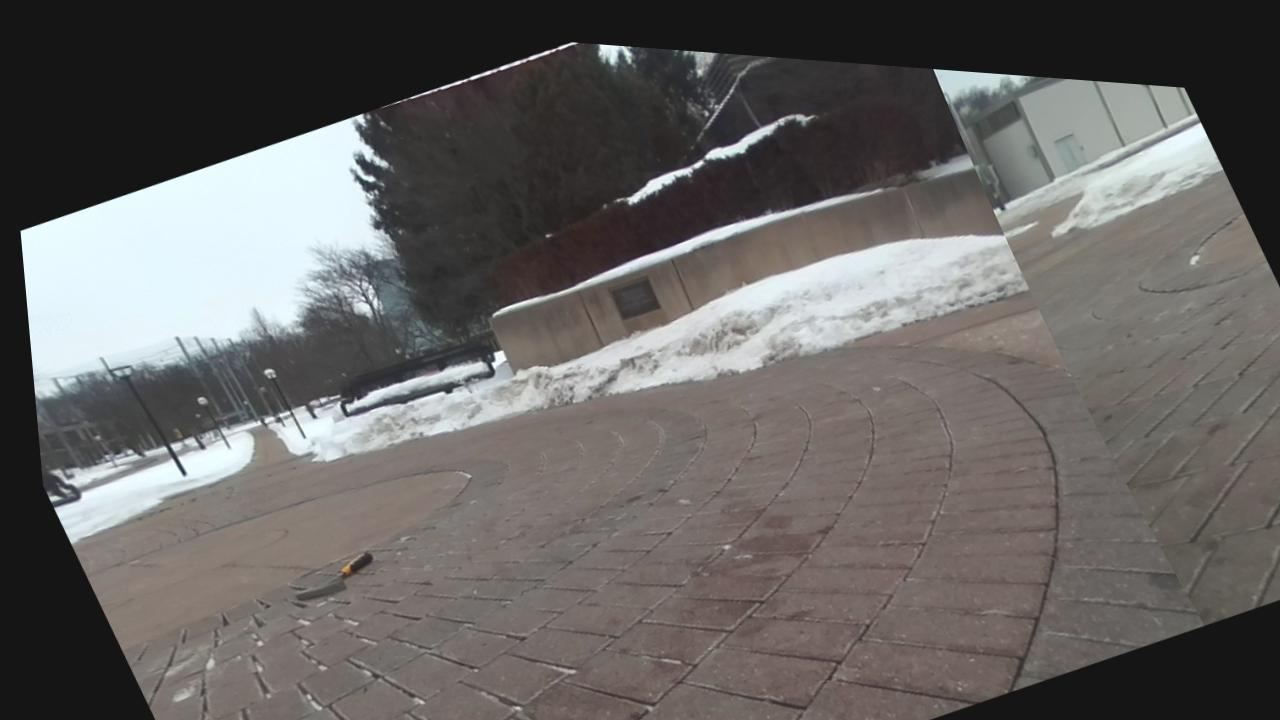pick: (295, 553, 371, 600)
